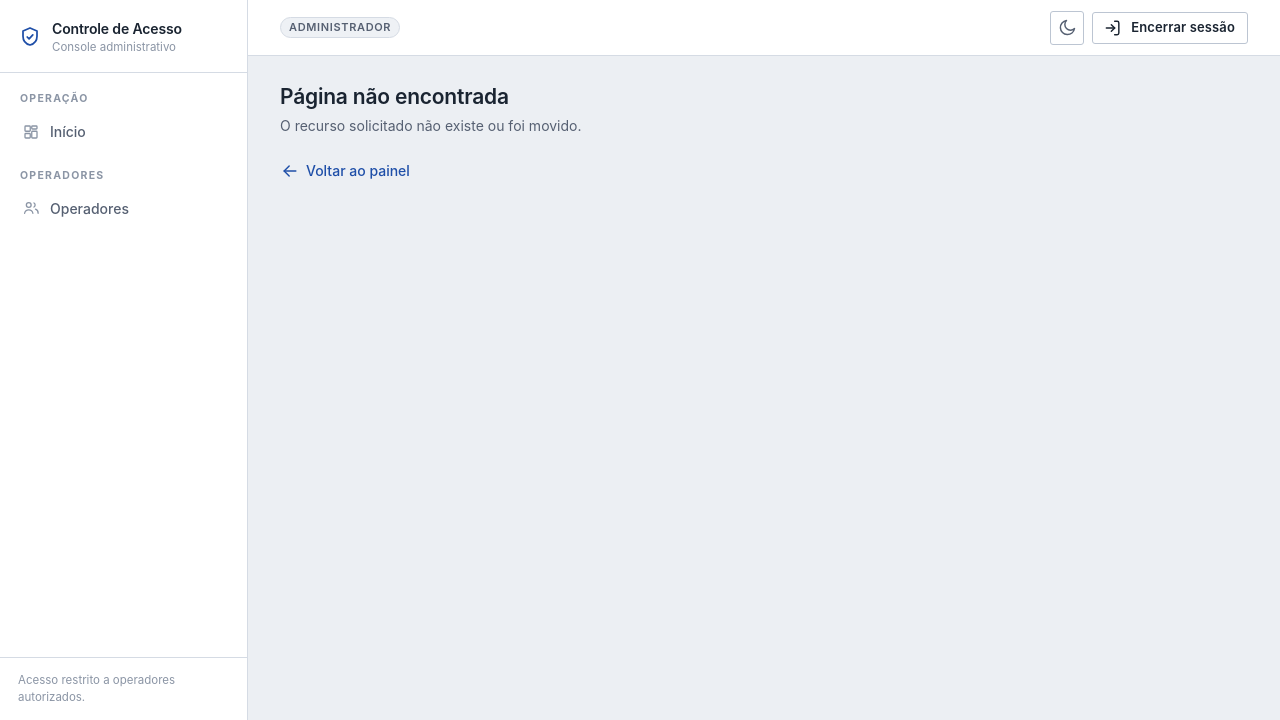
App: navegação protegida por sessão e perfil › mostra a página não encontrada para um endereço inexistente e volta ao início pelo link
The width and height of the screenshot is (1280, 720).
Expected: the heading "Página não encontrada" is shown, left=280, top=84, right=509, bottom=109
Click the link "Voltar ao painel" at coordinates (345, 171), box left=280, top=160, right=410, bottom=181
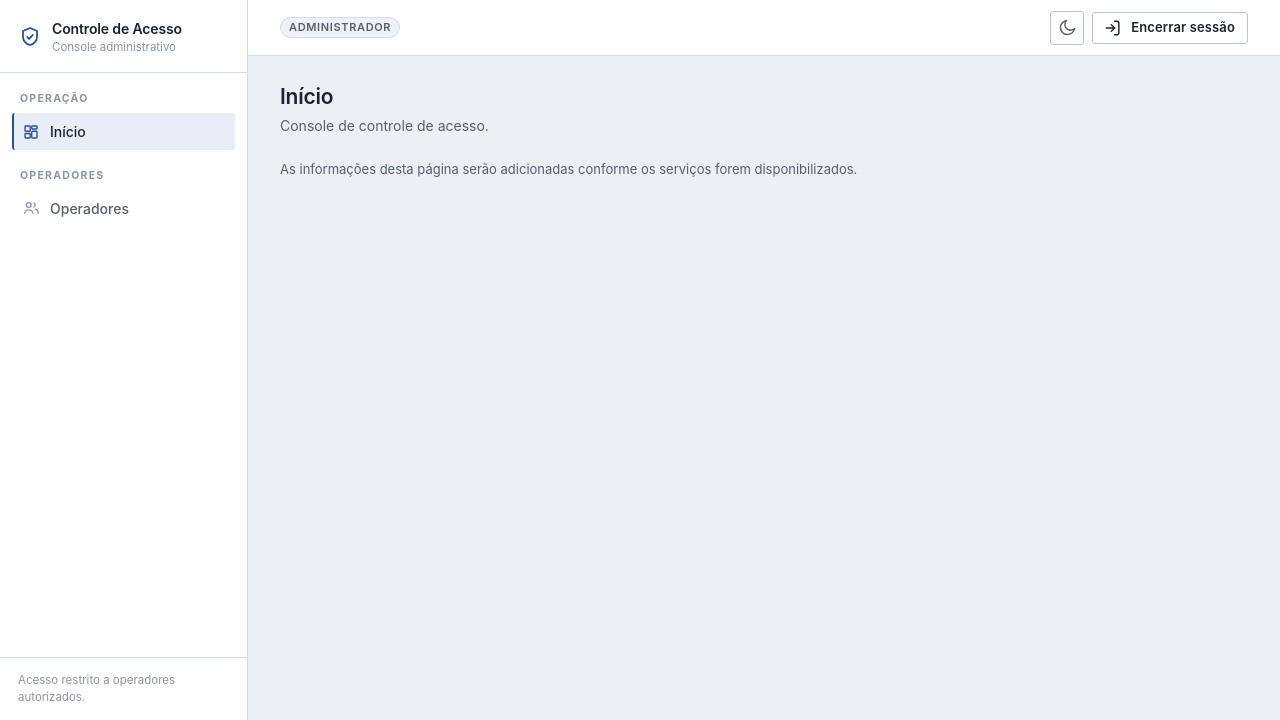
Result: the heading "Início" is shown at left=280, top=84, right=333, bottom=109
